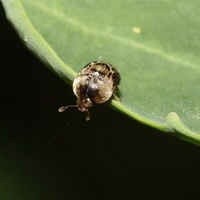insect: (58, 61, 120, 120)
